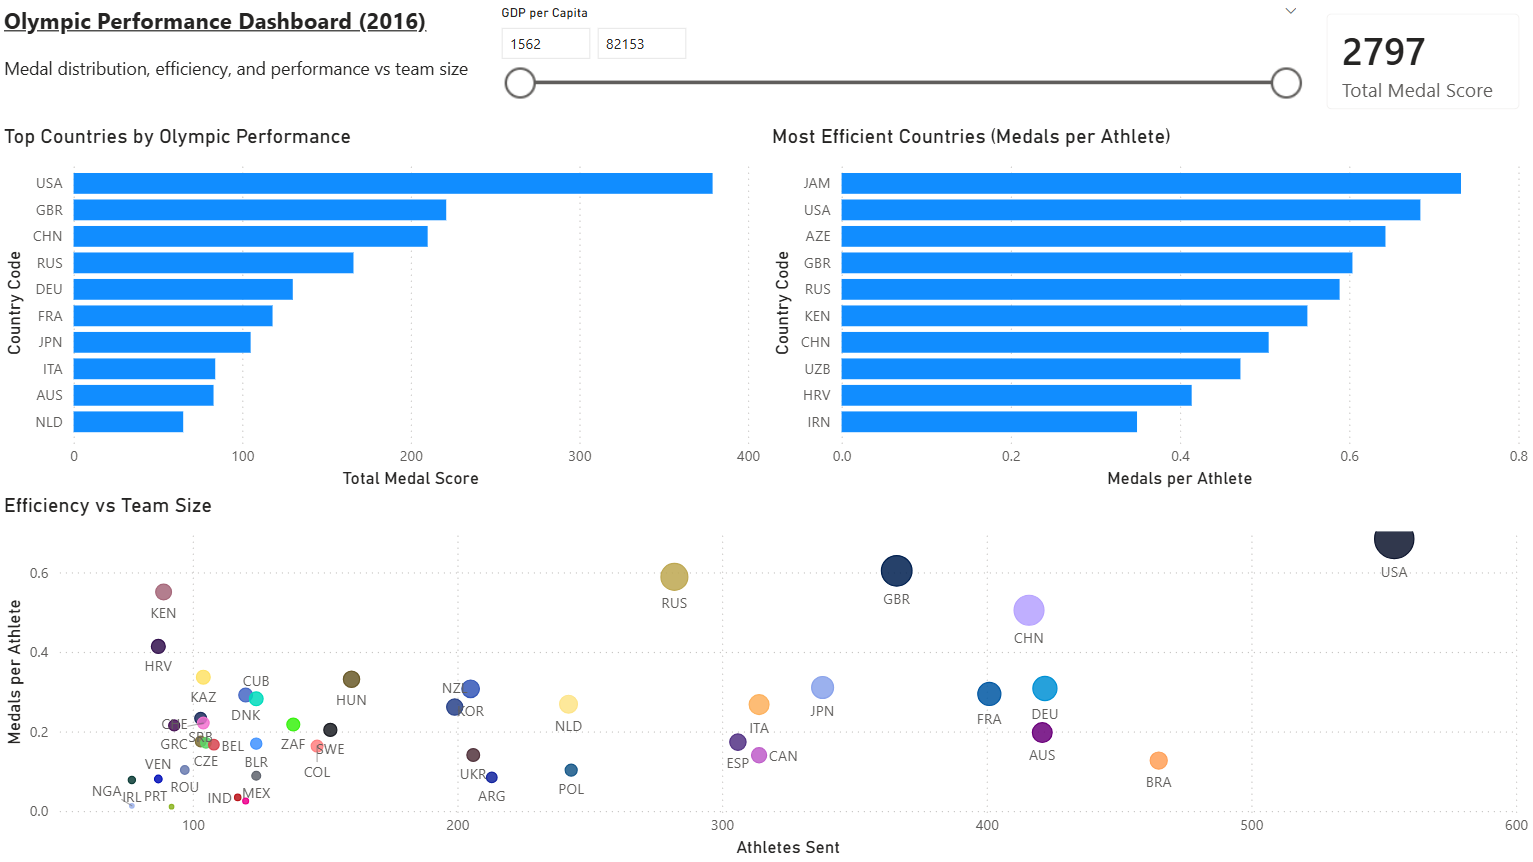

This screenshot's page, from the dashboard's own definition file:
{"tool":"powerbi","page":{"name":"Page 1","canvas":[1280,720],"ordinal":0},"visuals":[{"type":"clusteredBarChart","title":"Top Countries by Olympic Performance","fields":{"Category":["Cleaned Data.country_code"],"Y":["Sum(Cleaned Data.medal_score)"]},"box":[0,104,640,308],"z":0},{"type":"cardVisual","fields":{"Data":["Sum(Cleaned Data.medal_score)"]},"box":[1095,0,185,104],"z":1000},{"type":"clusteredBarChart","title":"Most Efficient Countries (Medals per Athlete)","fields":{"Category":["Cleaned Data.country_code"],"Y":["Cleaned Data.Medals per Athlete"]},"box":[640,104,640,308],"z":2000},{"type":"slicer","fields":{"Values":["Cleaned Data.gdp_per_capita"]},"box":[407,0,688,104],"z":2001},{"type":"scatterChart","title":"Efficiency vs Team Size","fields":{"X":["Sum(Cleaned Data.athletes_sent)"],"Y":["Cleaned Data.Medals per Athlete"],"Size":["Sum(Cleaned Data.medal_score)"],"Series":["Cleaned Data.country_code"]},"box":[0,412,1280,308],"z":2002},{"type":"textbox","box":[0,0,407,104],"z":2003}]}

Visuals, with their boxes in screenshot pixels (x1, y1, x2, y2), scaled from the page's 1280x720 canvas onto the 1533x862 screenshot:
"Top Countries by Olympic Performance" clusteredBarChart: [left=0, top=125, right=766, bottom=493]
cardVisual - Sum(Cleaned Data.medal_score): [left=1311, top=0, right=1532, bottom=125]
"Most Efficient Countries (Medals per Athlete)" clusteredBarChart: [left=766, top=125, right=1532, bottom=493]
slicer - Cleaned Data.gdp_per_capita: [left=487, top=0, right=1311, bottom=125]
"Efficiency vs Team Size" scatterChart: [left=0, top=493, right=1532, bottom=861]
textbox: [left=0, top=0, right=487, bottom=125]
